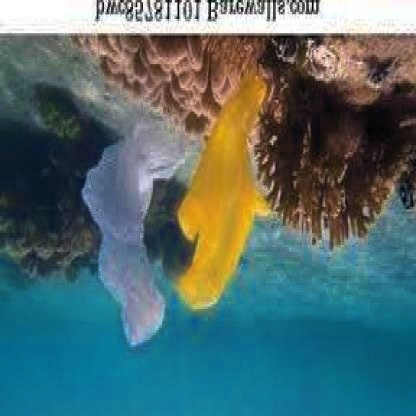pbag: (81, 116, 188, 352), (174, 69, 272, 314)
